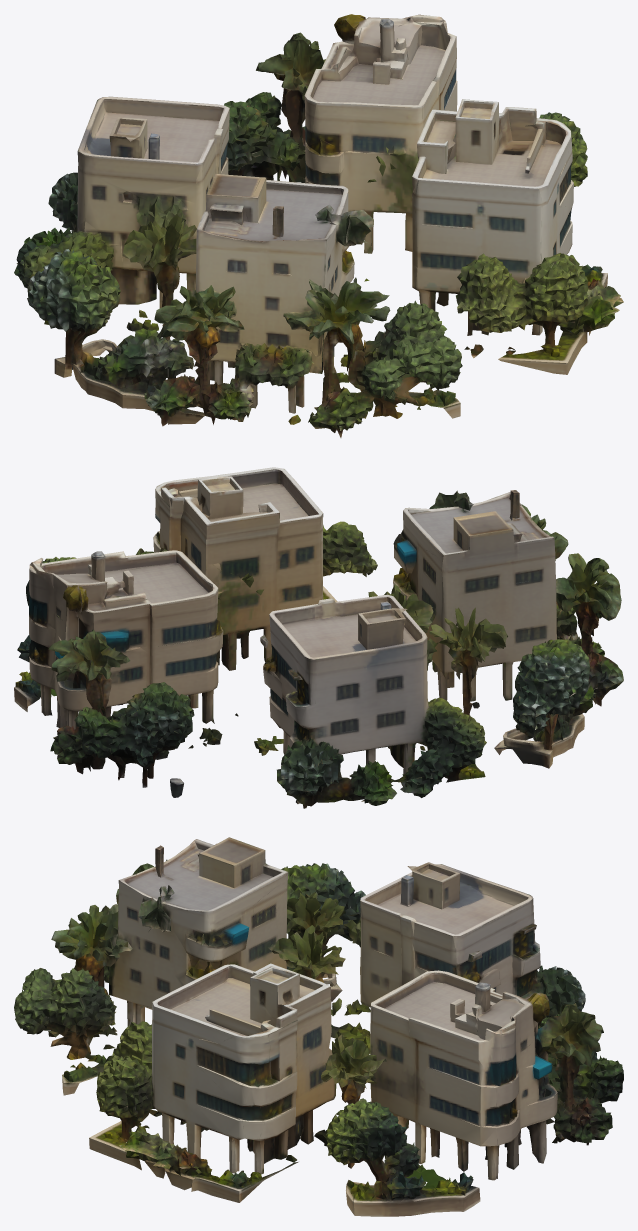
Rendered from city_1950s_bauhaus_noplinth.glb.
The picture shows the model from 3 angles, top to bottom: view 1: azimuth 30°, elevation 25°; view 2: azimuth 150°, elevation 25°; view 3: azimuth 270°, elevation 25°; orthographic projection. The views are drawn at different scales.
Visible parts, largest first — view 1: geometry_0; view 2: geometry_0; view 3: geometry_0.
Part boxes in pixels (left/top/right/bottom): geometry_0: left=14, top=14, right=623, bottom=437; geometry_0: left=14, top=467, right=623, bottom=808; geometry_0: left=14, top=837, right=623, bottom=1216.
Size of the model in its own units: 1 by 0.3454 by 1.
1 material, 1 textured.
